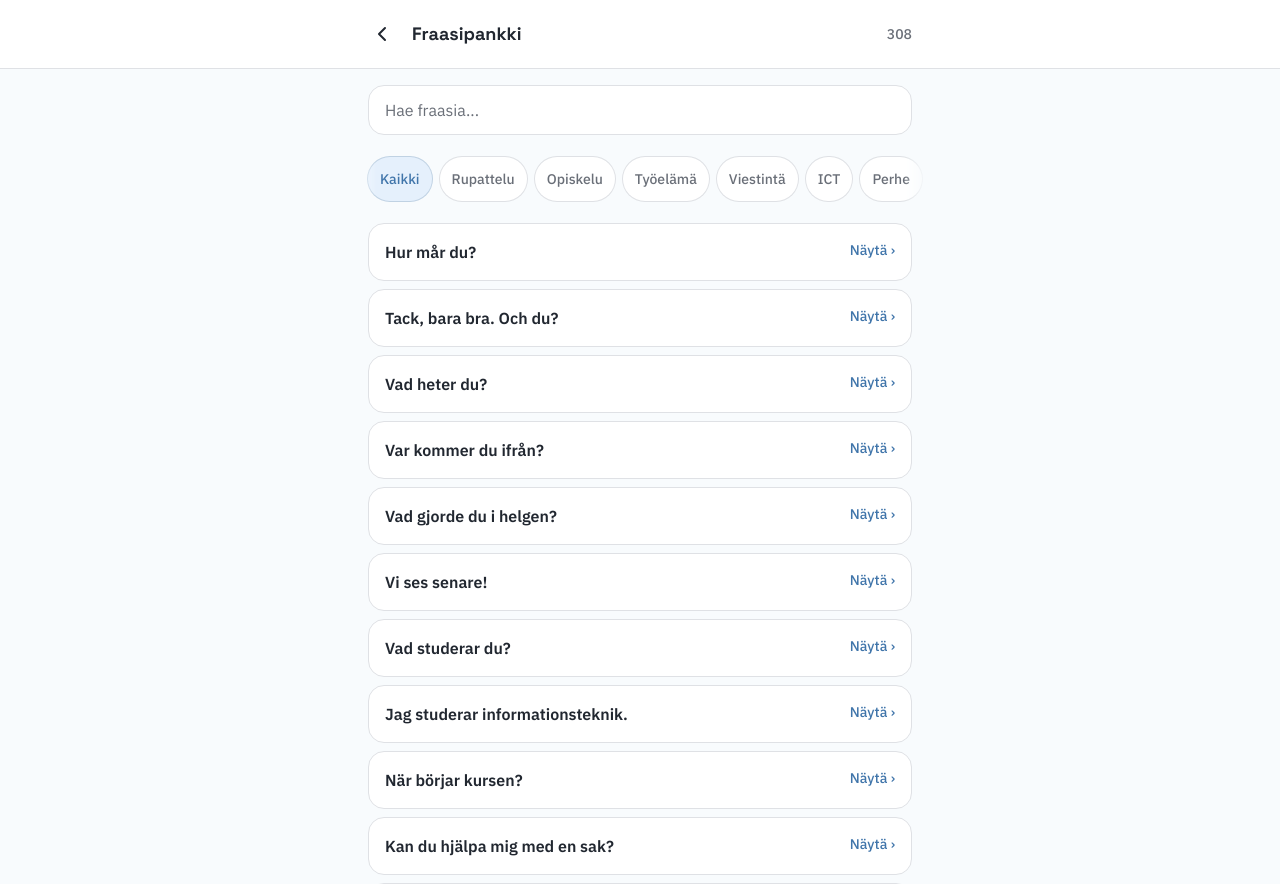
PhraseBank › shows a clear-search action when nothing matches, and clearing it restores the list
Type "epatodennakoinenhakusana" into the search field labelled "Hae fraasia". click: (640, 110)
box: 368,85 -> 912,135
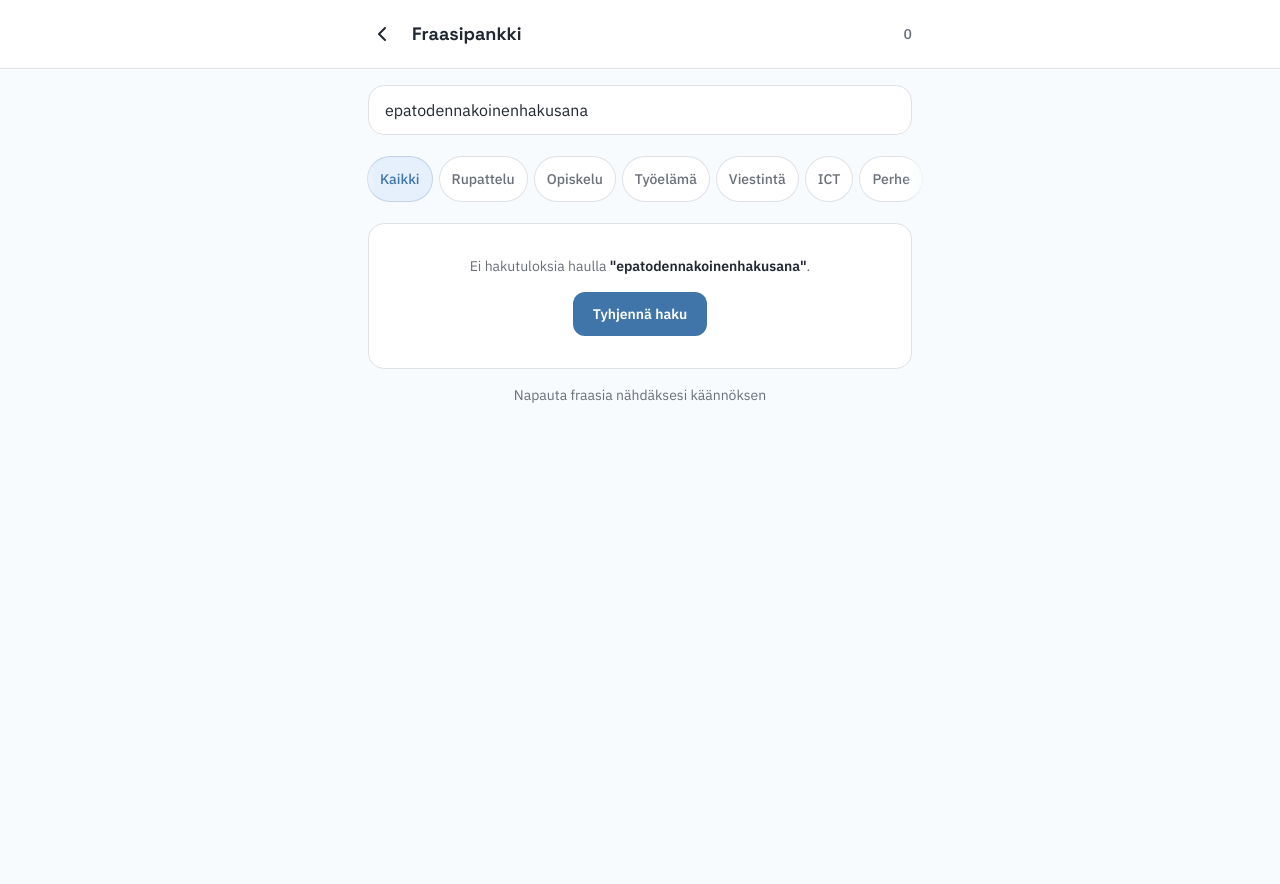
Expected: the text "Ei hakutuloksia haulla \"epatodennakoinenhakusana\"." is shown, 470,257 -> 810,275
Click the button "Tyhjennä haku". click: (640, 314)
box: 573,292 -> 707,336
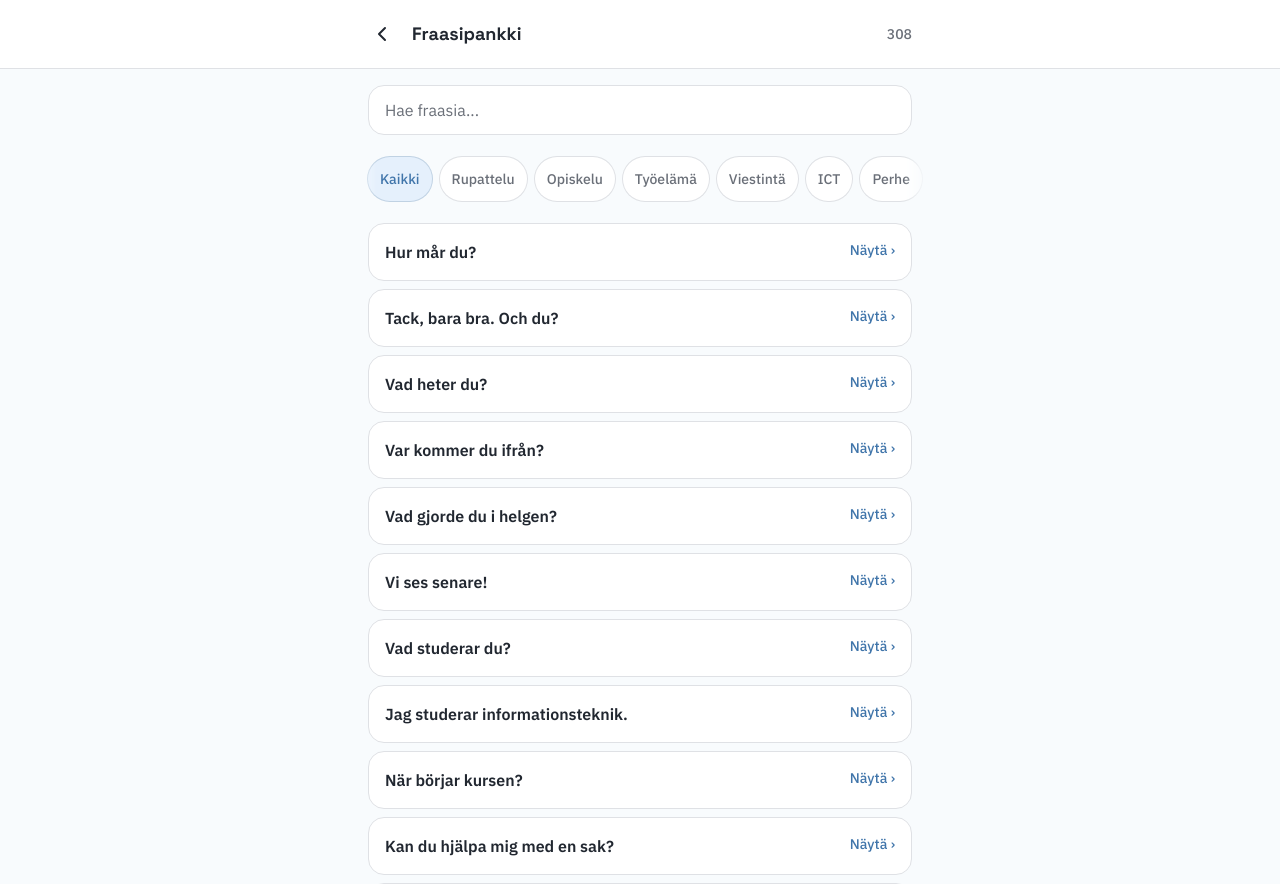
Expected: the search field labelled "Hae fraasia" is empty, 368,85 -> 912,135
Expected: the text "Hur mår du?" is shown, 385,240 -> 476,264
